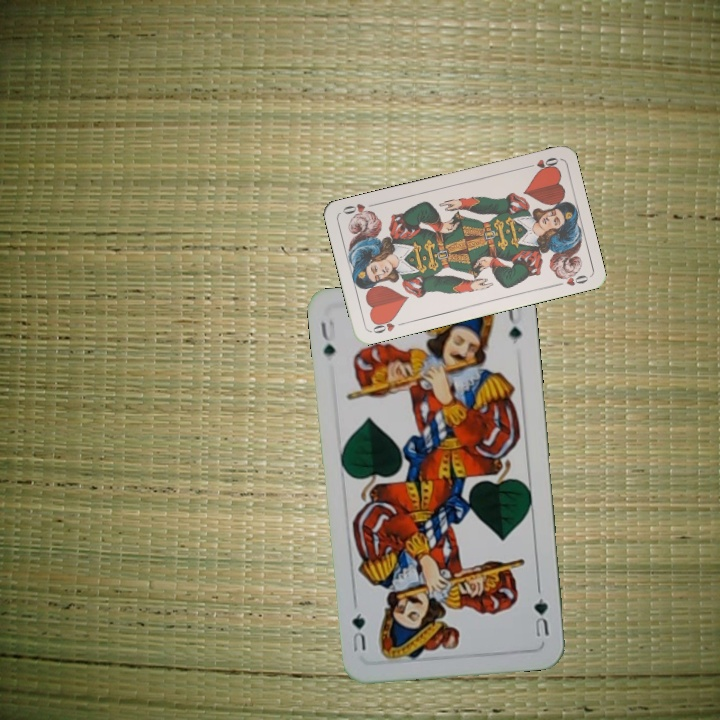GU: (529, 594, 552, 640), (317, 315, 338, 360)
HO: (367, 314, 407, 336), (521, 153, 561, 173)
